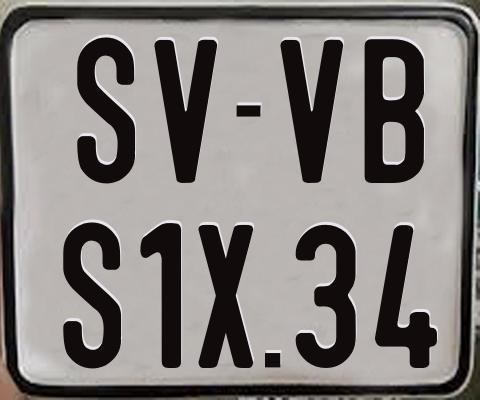1: (138, 223, 181, 370)
3: (293, 223, 355, 371)
4: (374, 225, 441, 369)
B: (364, 38, 429, 183)
S: (76, 37, 140, 186), (63, 219, 124, 366)
V: (152, 37, 219, 183), (279, 39, 344, 185)
X: (198, 225, 259, 368)
